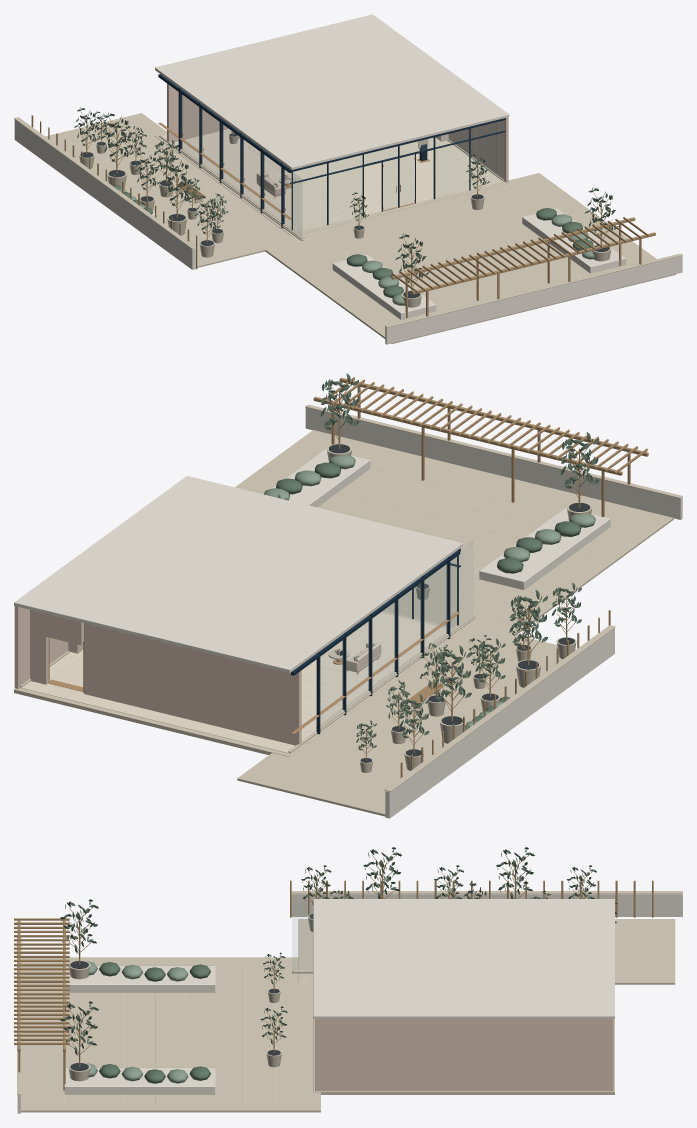
The model's file is beauty.glb.
3 views of the same model, one above another, from view 1: azimuth 30°, elevation 25°; view 2: azimuth 150°, elevation 25°; view 3: azimuth 270°, elevation 25° (orthographic). The views are drawn at different scales.
Parts seen in each view (by area): view 1: SHOWROOM · beauty, Wind in the olive crown (×4); view 2: SHOWROOM · beauty, Wind in the olive crown (×7); view 3: SHOWROOM · beauty, Wind in the olive crown (×8).
Part boxes in pixels (bbox=[...]): SHOWROOM · beauty: bbox=[14, 14, 682, 344]; Wind in the olive crown (×4): bbox=[100, 112, 618, 287]; SHOWROOM · beauty: bbox=[14, 377, 682, 818]; Wind in the olive crown (×7): bbox=[320, 373, 599, 745]; SHOWROOM · beauty: bbox=[14, 861, 682, 1113]; Wind in the olive crown (×8): bbox=[60, 847, 596, 1059].
Bounding box in the file's own units: 31 × 6.17 × 44.35.
